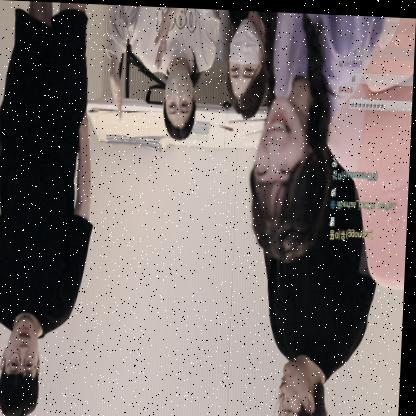streamer: (0, 0, 102, 416), (249, 9, 390, 264), (259, 152, 383, 416), (104, 4, 219, 142), (216, 8, 276, 118)
